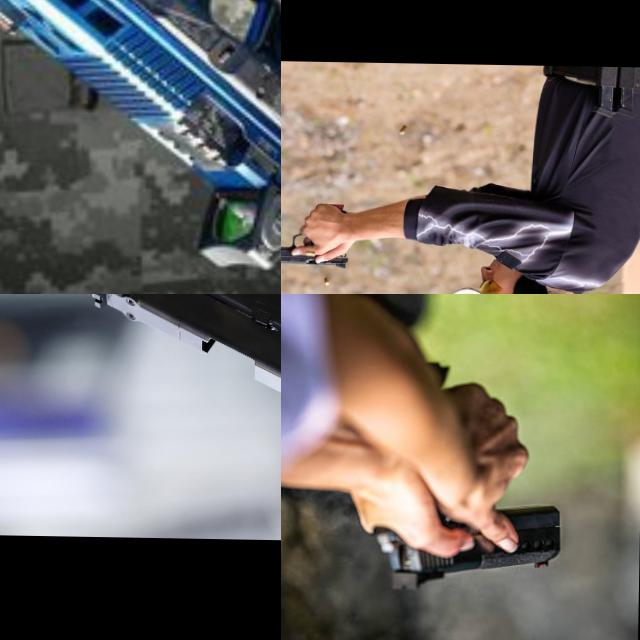handgun: (0, 0, 281, 294), (82, 294, 281, 465), (360, 494, 564, 597), (281, 226, 351, 269)
